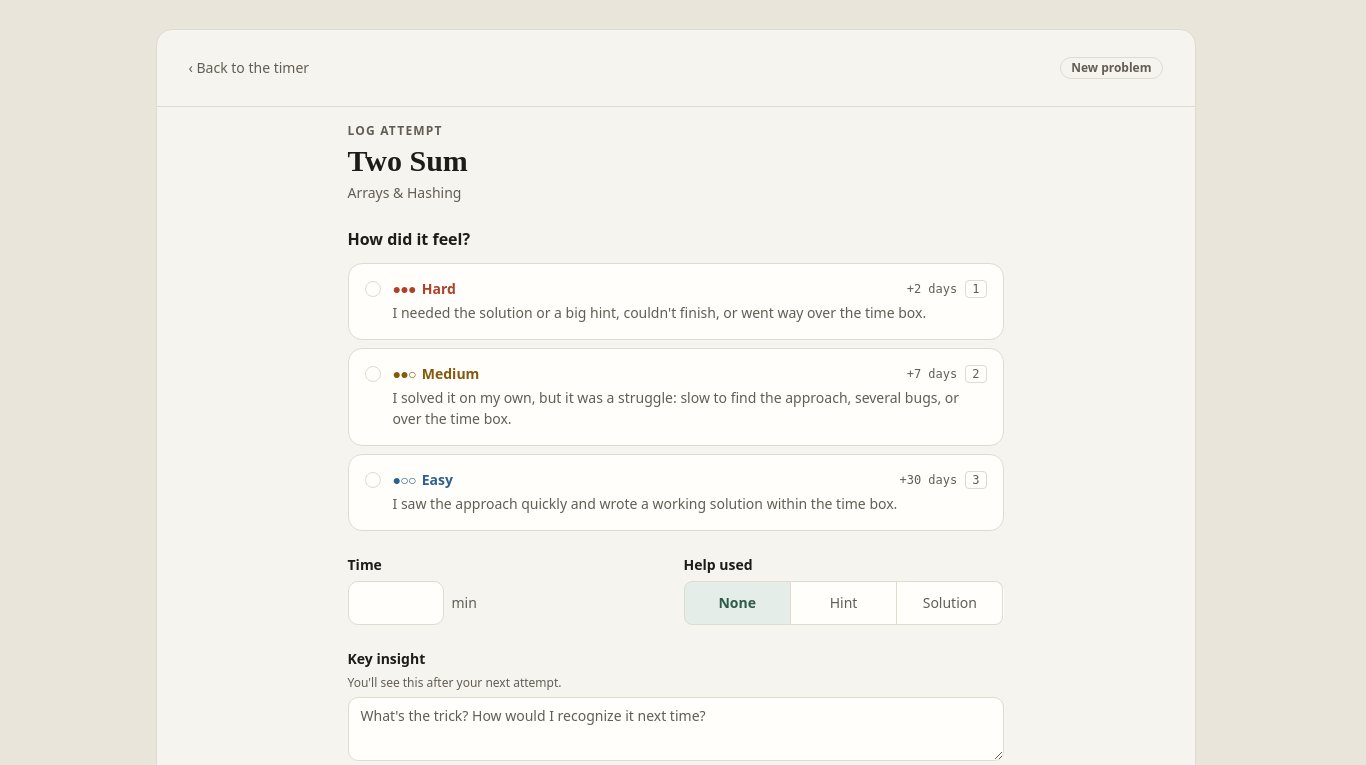
LogPage form › won't save without a rating
Step 1. Type "20" into the number field labelled "Time" → (396, 603), box [348,581,444,625]
(page scrolled)
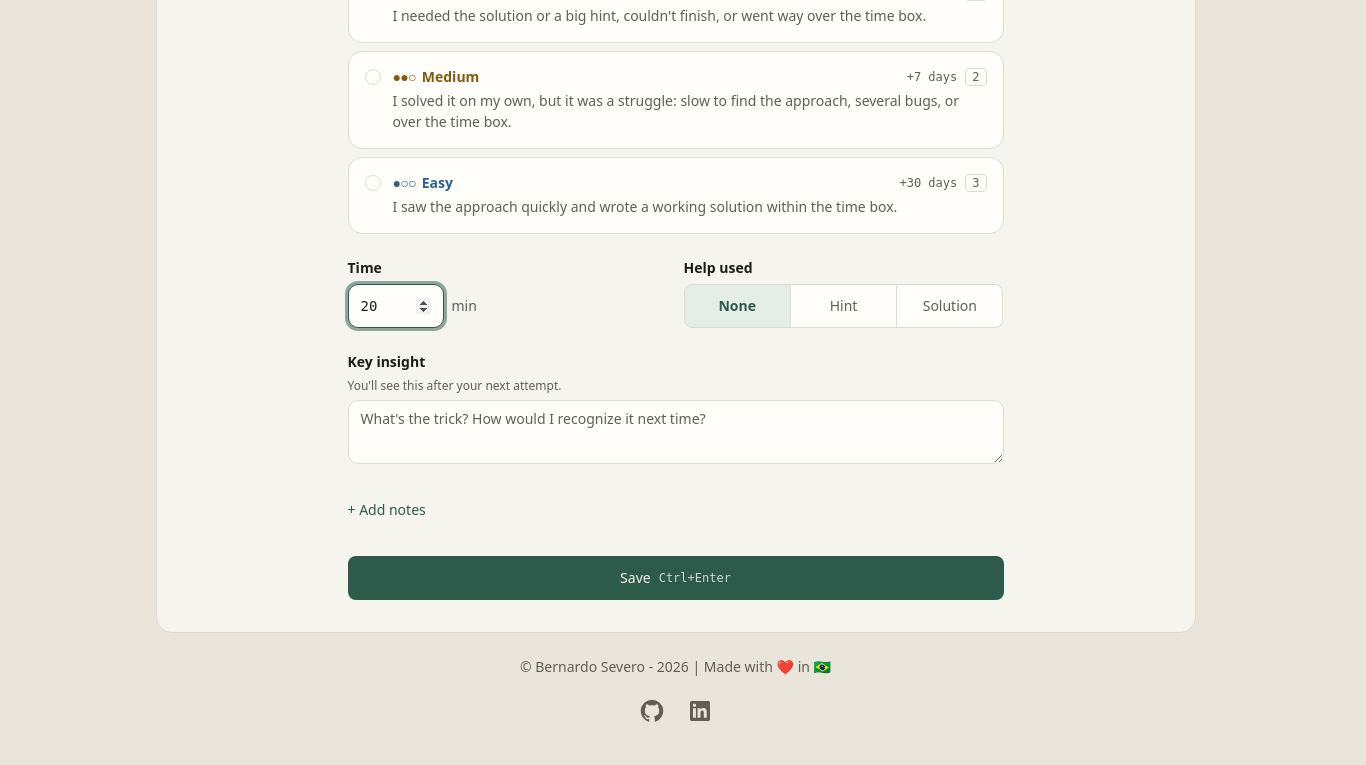
Step 2. Click the button "Save Ctrl+Enter" → (676, 578), box [348,556,1004,600]
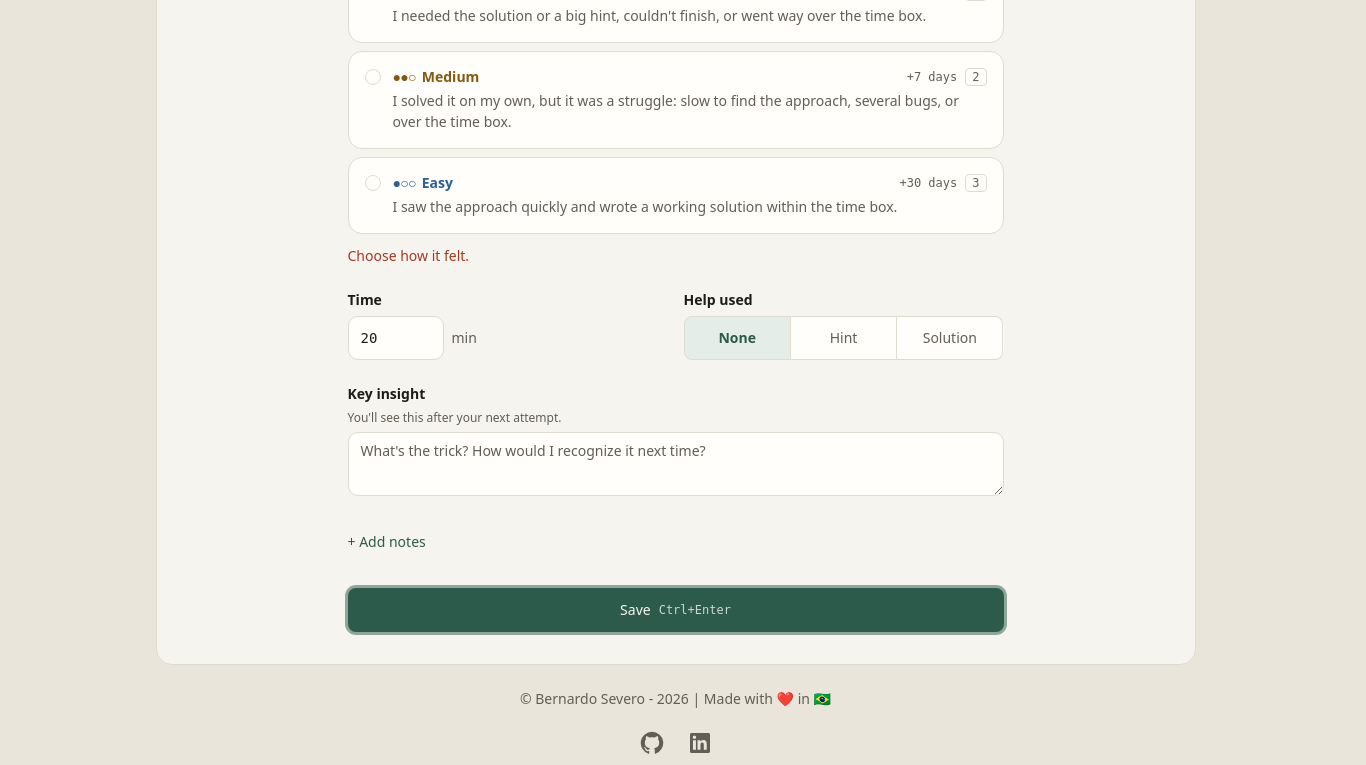
Check: the text "Choose how it felt." is shown, box [348,246,469,265]
